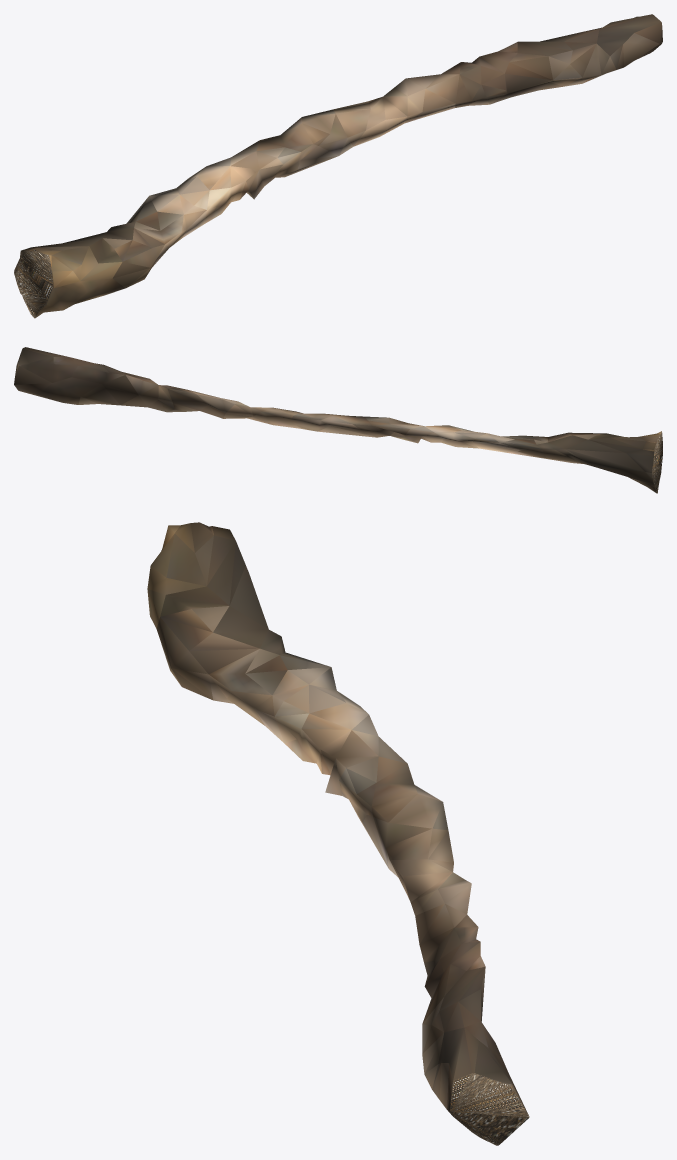
File: Sungaya_inexpectata_31mg.037.obj
3 views of the same model, one above another, from view 1: azimuth 30°, elevation 25°; view 2: azimuth 150°, elevation 25°; view 3: azimuth 270°, elevation 25° (orthographic). The views are drawn at different scales.
Visible parts, largest first — view 1: 33-f-r-tibia_Sungaya_inexpectata_31mg.037; view 2: 33-f-r-tibia_Sungaya_inexpectata_31mg.037; view 3: 33-f-r-tibia_Sungaya_inexpectata_31mg.037.
Boxes of the visible parts, bbox=[...] form: 33-f-r-tibia_Sungaya_inexpectata_31mg.037: bbox=[14, 14, 662, 318]; 33-f-r-tibia_Sungaya_inexpectata_31mg.037: bbox=[14, 347, 662, 493]; 33-f-r-tibia_Sungaya_inexpectata_31mg.037: bbox=[147, 522, 529, 1145].
Size of the model in its own units: 0.00375 by 0.000366 by 0.00108.
Materials: 1 (1 with a texture image).
